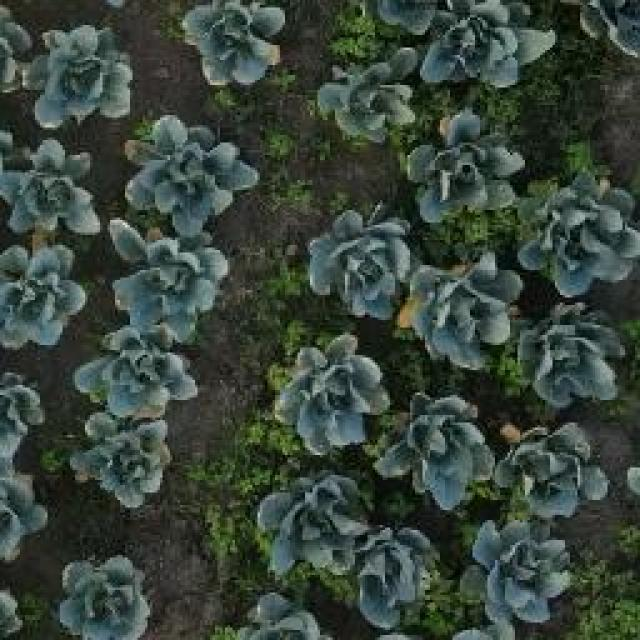cabbage: (124, 117, 258, 236), (108, 222, 234, 342), (378, 393, 495, 512), (272, 335, 389, 449), (407, 259, 525, 372), (249, 469, 368, 580), (530, 175, 640, 293), (517, 297, 628, 412), (418, 0, 557, 88), (407, 116, 521, 222), (494, 418, 612, 520), (72, 325, 198, 417), (21, 24, 136, 123), (310, 210, 412, 319), (468, 517, 570, 626), (0, 140, 107, 240), (74, 412, 173, 514), (314, 46, 418, 142), (178, 0, 286, 92), (0, 238, 90, 348), (356, 530, 444, 626), (60, 558, 158, 640)
